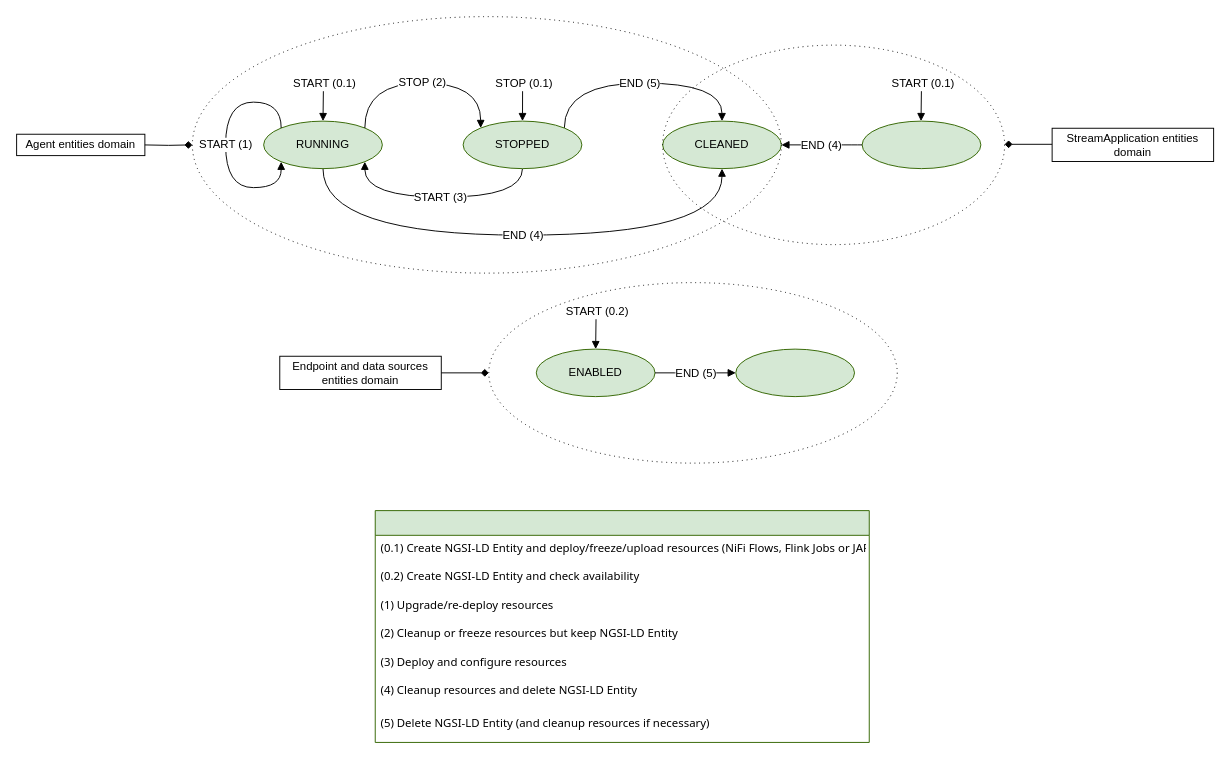
Image size: 1230x762. Some labels were removed from this diagram. Each missing label, with the box of its shape:
DISABLED: (735, 348, 855, 397)
Transition Actions: Weaver tasks: (374, 510, 869, 742)
UPLOADED: (861, 120, 981, 169)
